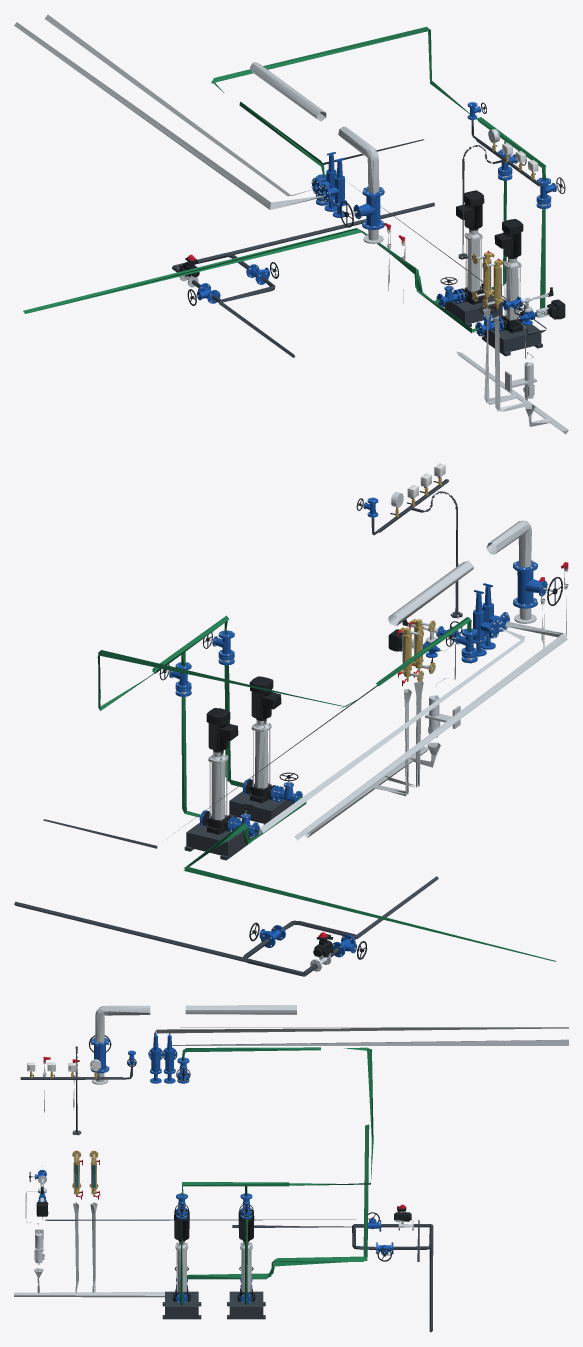
3 views of the same model, one above another, from view 1: azimuth 30°, elevation 25°; view 2: azimuth 150°, elevation 25°; view 3: azimuth 270°, elevation 25° (orthographic). The views are drawn at different scales.
Parts seen in each view (by area): view 1: suction_common, safety_vent_1, pump_2, pump_1, local_open_drains, pump_branch_1, safety_vent_2, to_direct, pump_branch_2, steam_manual, steam_delivery, steam_rise (+7 smaller); view 2: safety_vent_1, pump_2, pump_1, local_open_drains, pump_branch_2, suction_common, safety_vent_2, pump_branch_1, to_direct, steam_manual, steam_delivery, bottom_discharge (+5 smaller); view 3: suction_common, safety_vent_1, local_open_drains, safety_vent_2, pump_branch_2, pump_branch_1, steam_delivery, pump_1, pump_2, steam_rise, to_direct, direct_inlet (+4 smaller).
Part boxes in pixels (x1,y1,x2,y2): suction_common: [23, 228, 471, 333]; safety_vent_1: [14, 22, 325, 209]; pump_2: [456, 190, 484, 304]; pump_1: [494, 219, 524, 333]; local_open_drains: [456, 308, 568, 434]; pump_branch_1: [472, 166, 545, 356]; safety_vent_2: [44, 14, 314, 196]; to_direct: [211, 26, 477, 119]; pump_branch_2: [432, 141, 506, 326]; steam_manual: [339, 186, 384, 230]; steam_delivery: [250, 61, 326, 121]; steam_rise: [338, 126, 379, 193]; safety_vent_1: [294, 621, 567, 840]; pump_2: [202, 708, 238, 834]; pump_1: [245, 676, 281, 803]; local_open_drains: [305, 681, 440, 838]; pump_branch_2: [181, 652, 259, 860]; suction_common: [184, 802, 556, 961]; safety_vent_2: [258, 627, 525, 834]; pump_branch_1: [224, 621, 301, 824]; to_direct: [97, 650, 363, 710]; steam_manual: [513, 560, 562, 608]; steam_delivery: [388, 561, 473, 626]; bottom_discharge: [14, 901, 304, 975]; suction_common: [187, 1124, 369, 1279]; safety_vent_1: [153, 1027, 568, 1047]; local_open_drains: [14, 1202, 164, 1297]; safety_vent_2: [167, 1039, 568, 1047]; pump_branch_2: [227, 1186, 265, 1319]; pump_branch_1: [162, 1186, 201, 1319]; steam_delivery: [185, 1005, 296, 1014]; pump_1: [173, 1209, 190, 1301]; pump_2: [237, 1209, 255, 1301]; steam_rise: [95, 1005, 150, 1042]; to_direct: [289, 1047, 373, 1185]; direct_inlet: [181, 1047, 320, 1060].
Size of the model in its own units: 5 by 3.03 by 6.45.
